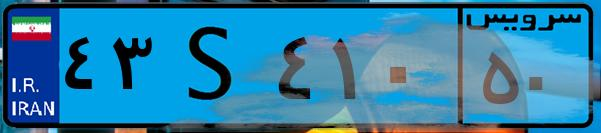0: (385, 28, 445, 110), (525, 38, 570, 115)
1: (330, 28, 385, 110)
3: (110, 28, 158, 98)
4: (270, 28, 330, 110), (57, 26, 110, 100)
5: (475, 38, 525, 113)
S: (158, 12, 270, 120)
